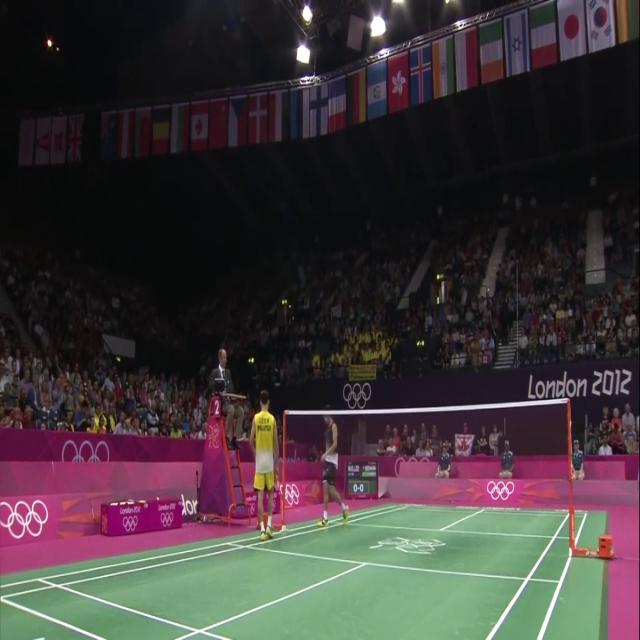Player1: (243, 379, 292, 548)
Player2: (319, 387, 353, 526)
